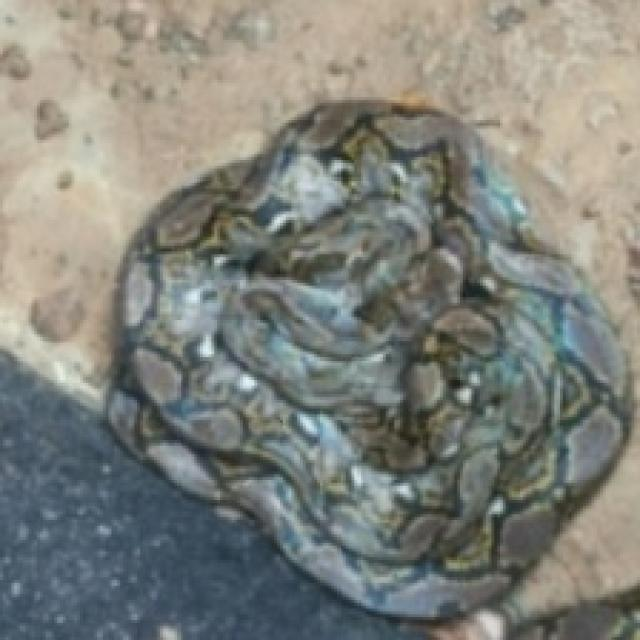reticulated python: (106, 100, 629, 637), (109, 100, 626, 617)
